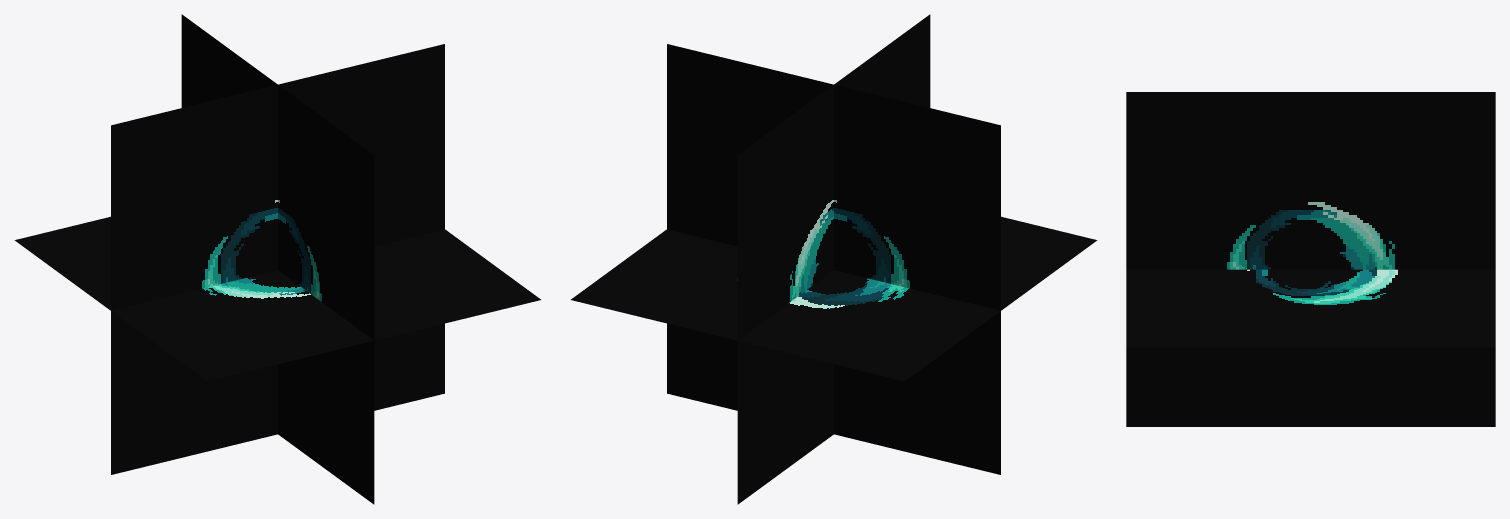
The model's file is vfx_gale_vault_2.gltf.
The picture shows the model from 3 angles, left to right: view 1: azimuth 30°, elevation 25°; view 2: azimuth 150°, elevation 25°; view 3: azimuth 270°, elevation 25°; orthographic projection. The views are drawn at different scales.
Parts seen in each view (by area): view 1: cube (×3); view 2: cube (×3); view 3: cube (×2).
Boxes of the visible parts, x1=… form: cube (×3): x1=14, y1=14, x2=540, y2=504; cube (×3): x1=571, y1=14, x2=1097, y2=504; cube (×2): x1=1126, y1=92, x2=1495, y2=426.
Size of the model in its own units: 2.06 by 2.06 by 2.06.
1 material, 1 textured.
